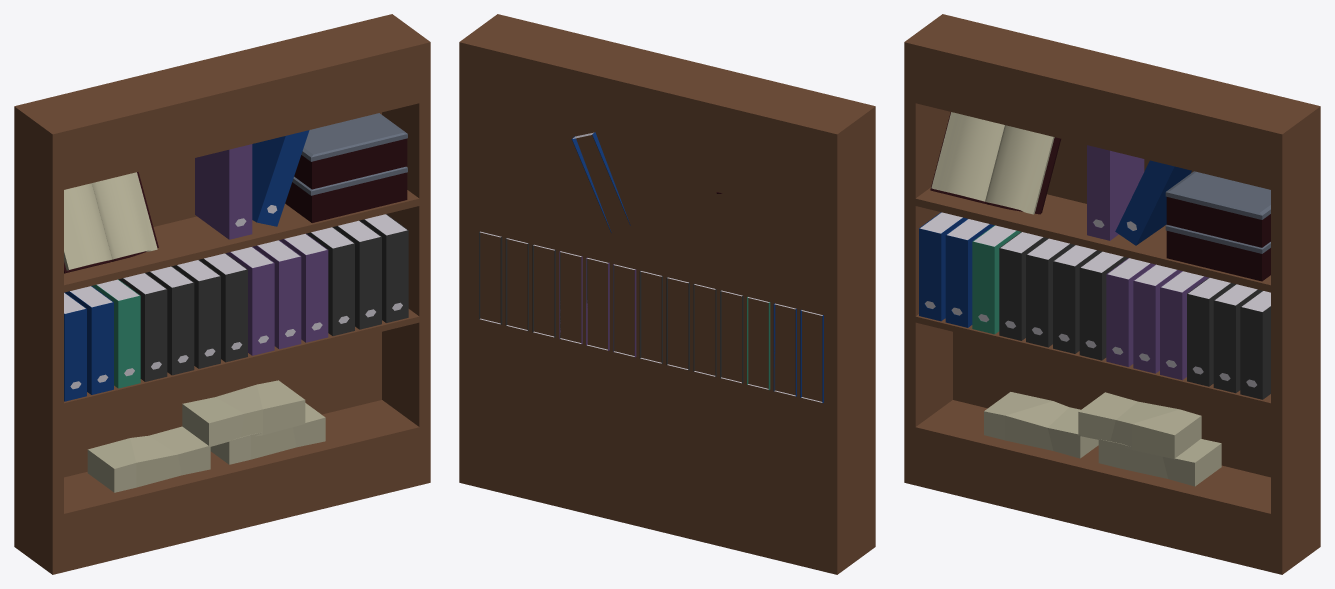
File: BooksLibrary.fbx
3 renders of one model, left to right at view 1: azimuth 30°, elevation 25°; view 2: azimuth 150°, elevation 25°; view 3: azimuth 330°, elevation 25°, orthographic.
Visible parts, largest first — view 1: Cabinet1.027, Book0.013, Textured.005, box.002, Cube.205, Cube.203, Book0.014, box, Book0.015, Cube.204; view 2: Cabinet1.027, Book0.013, Book0.015; view 3: Cabinet1.027, Book0.013, Textured.005, box.002, Cube.205, Cube.203, Book0.014, box, Cube.204, Book0.015.
Boxes of the visible parts, x1=… form: Cabinet1.027: x1=14, y1=14, x2=430, y2=574; Book0.013: x1=64, y1=214, x2=408, y2=401; Textured.005: x1=64, y1=172, x2=158, y2=273; box.002: x1=294, y1=113, x2=407, y2=189; Cube.205: x1=182, y1=380, x2=305, y2=447; Cube.203: x1=87, y1=426, x2=210, y2=492; Book0.014: x1=195, y1=144, x2=252, y2=239; box: x1=285, y1=166, x2=407, y2=222; Book0.015: x1=252, y1=130, x2=309, y2=226; Cube.204: x1=210, y1=403, x2=325, y2=464; Cabinet1.027: x1=459, y1=14, x2=875, y2=574; Book0.013: x1=479, y1=231, x2=823, y2=403; Book0.015: x1=571, y1=132, x2=630, y2=232; Cabinet1.027: x1=904, y1=14, x2=1320, y2=574; Book0.013: x1=919, y1=212, x2=1270, y2=399; Textured.005: x1=930, y1=112, x2=1061, y2=214; box.002: x1=1165, y1=171, x2=1270, y2=247; Cube.205: x1=1078, y1=392, x2=1201, y2=459; Cube.203: x1=984, y1=392, x2=1098, y2=458; Book0.014: x1=1087, y1=145, x2=1144, y2=240; box: x1=1165, y1=225, x2=1270, y2=281; Cube.204: x1=1098, y1=439, x2=1221, y2=486; Book0.015: x1=1115, y1=160, x2=1191, y2=245.
Bounding box in the file's own units: 89.13 × 99.22 × 17.08.
